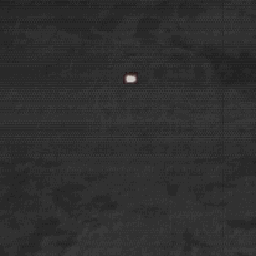Target: (123, 72, 136, 83)
